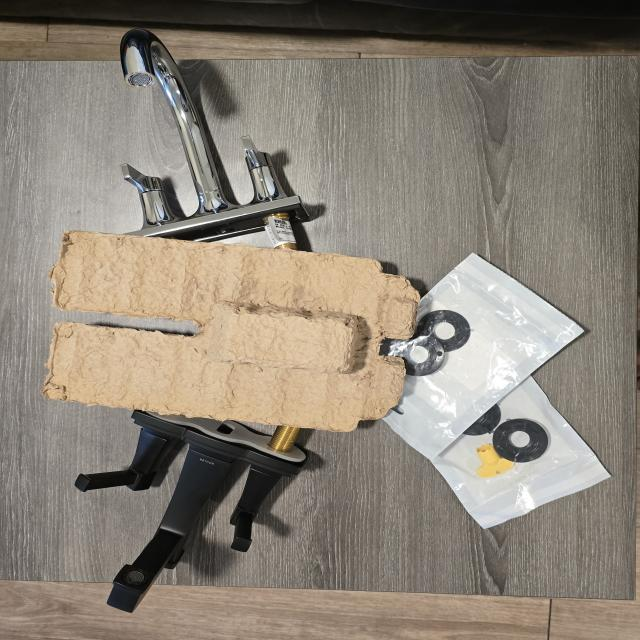10o: (120, 29, 309, 249)
12o: (431, 377, 610, 528)
13o: (381, 254, 584, 457)
9o: (75, 410, 306, 612)
